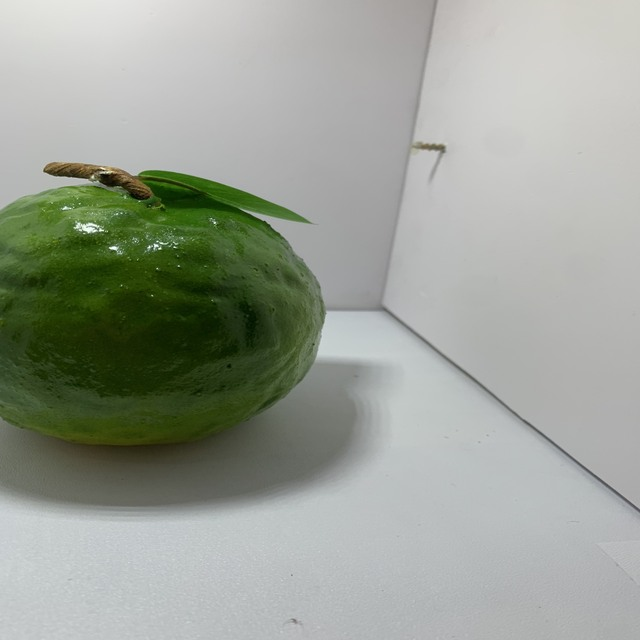Cam xanh: (0, 161, 325, 465)
